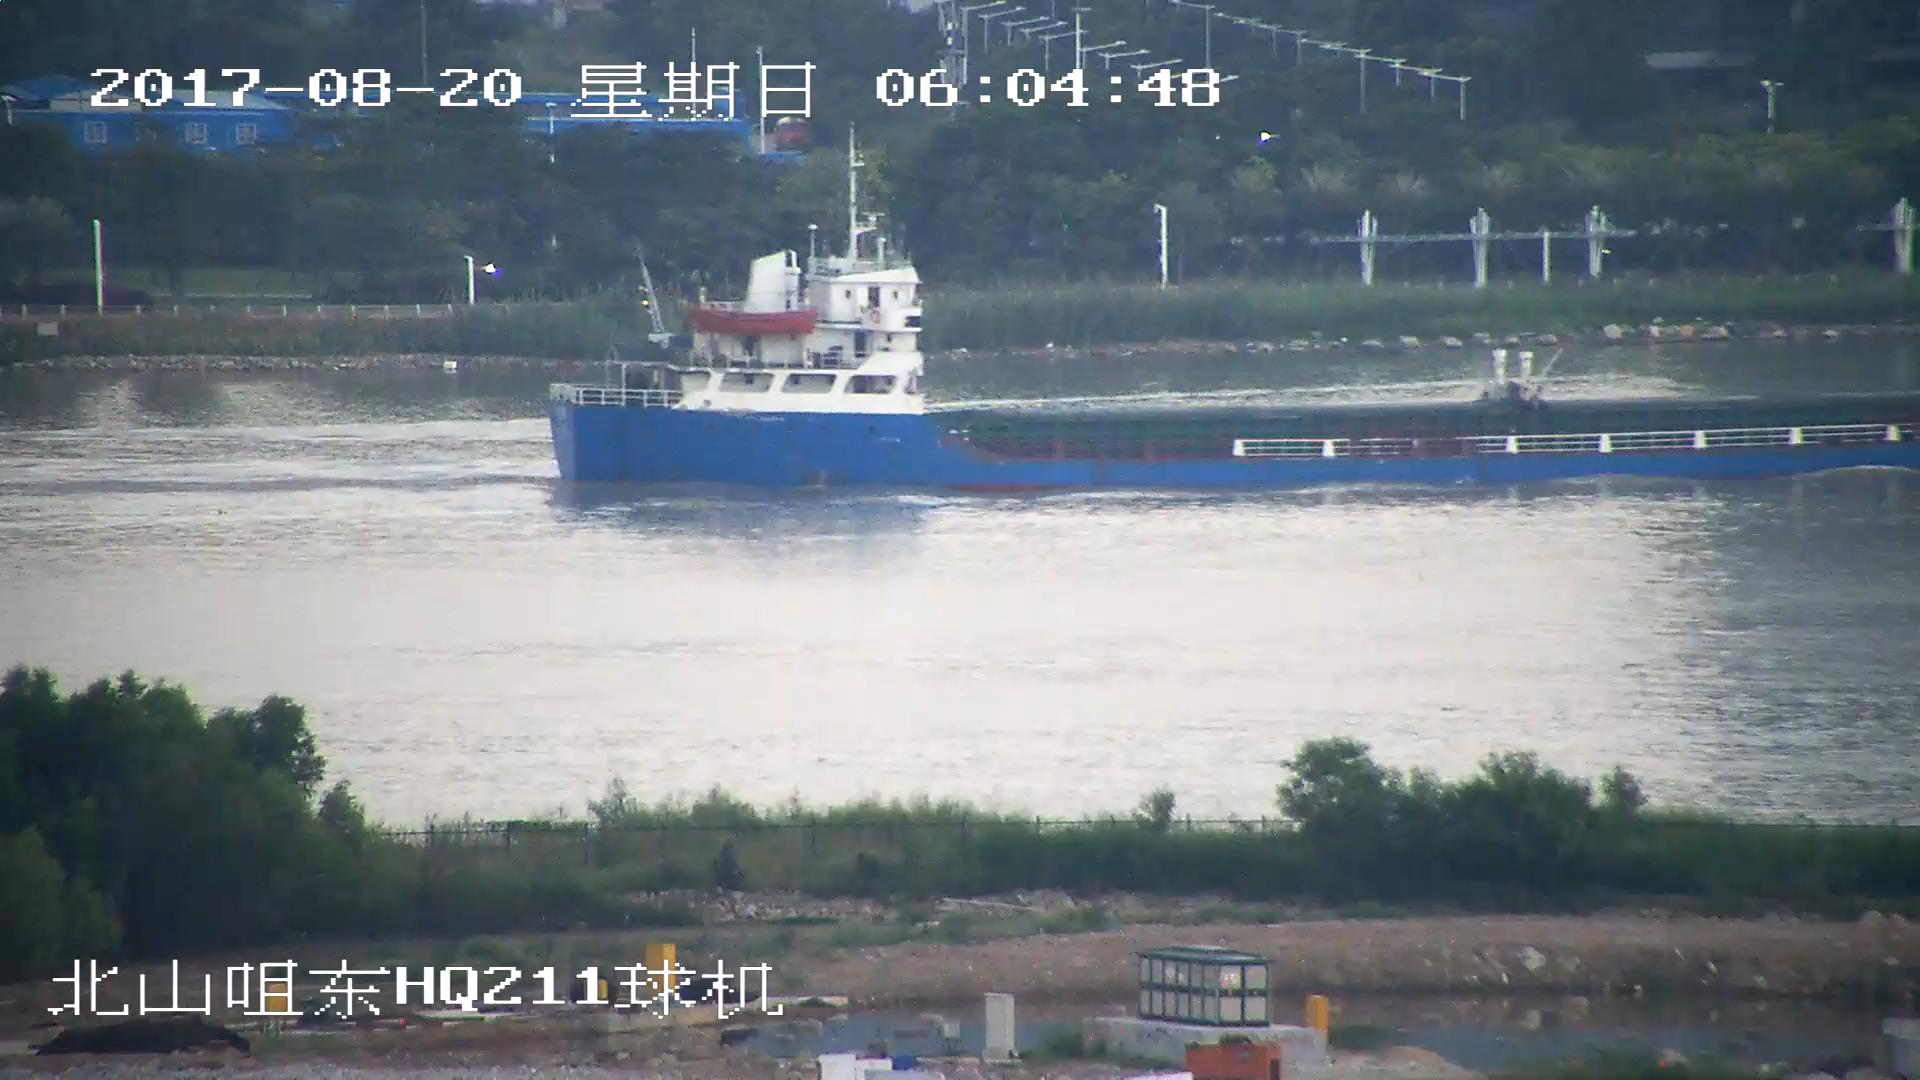general cargo ship: (553, 220, 1920, 489)
